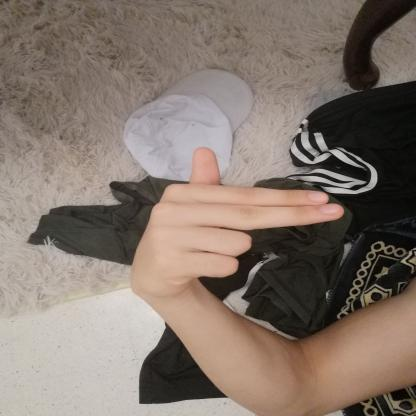GHAYN: (117, 140, 358, 309)
